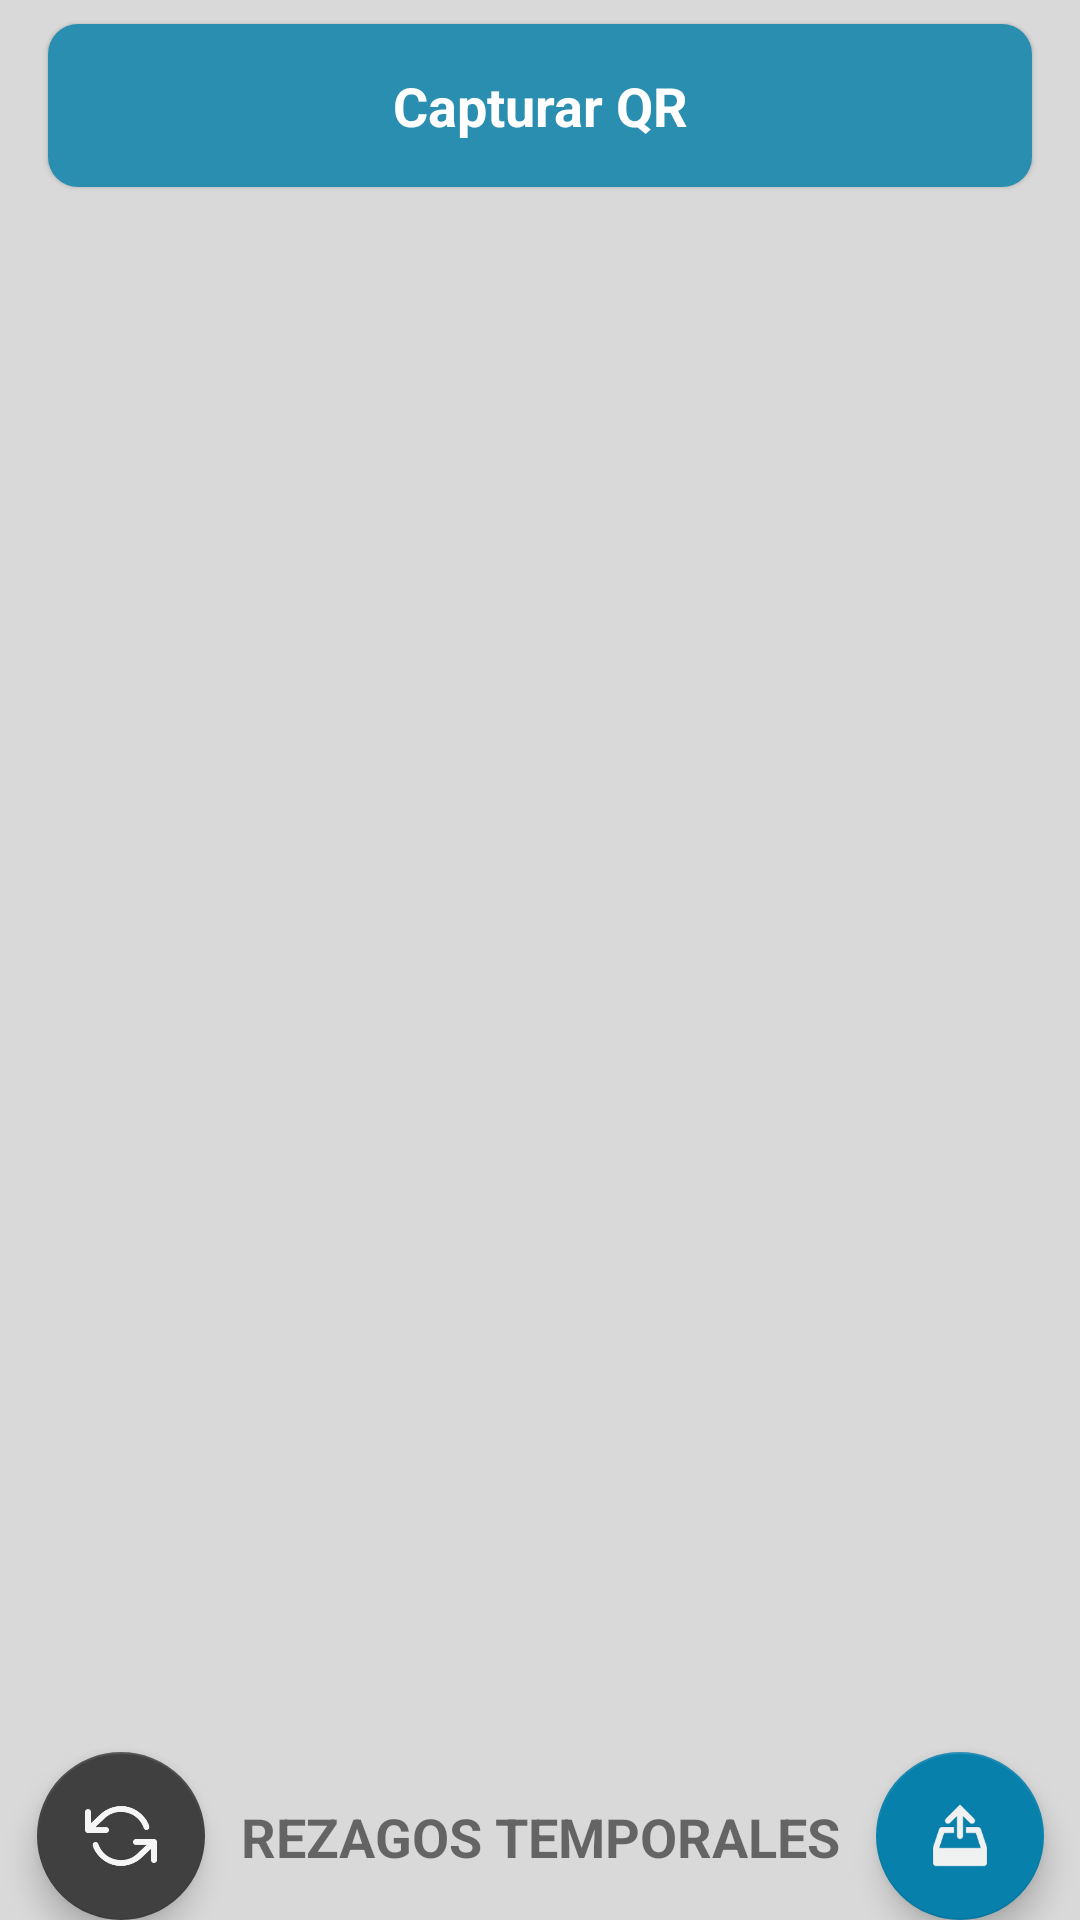

Named icons in this screenshot (1080x1920) and their bounding boxes, (x1, y1, x2, y2):
if refreshhh: (37, 1752, 205, 1920)
if upload: (876, 1752, 1044, 1920)
